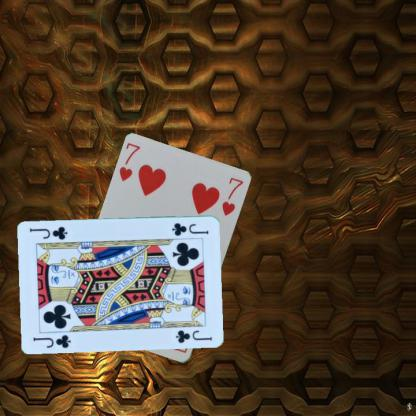7h: (116, 140, 142, 182)
Jc: (30, 332, 72, 349), (170, 220, 210, 237)
